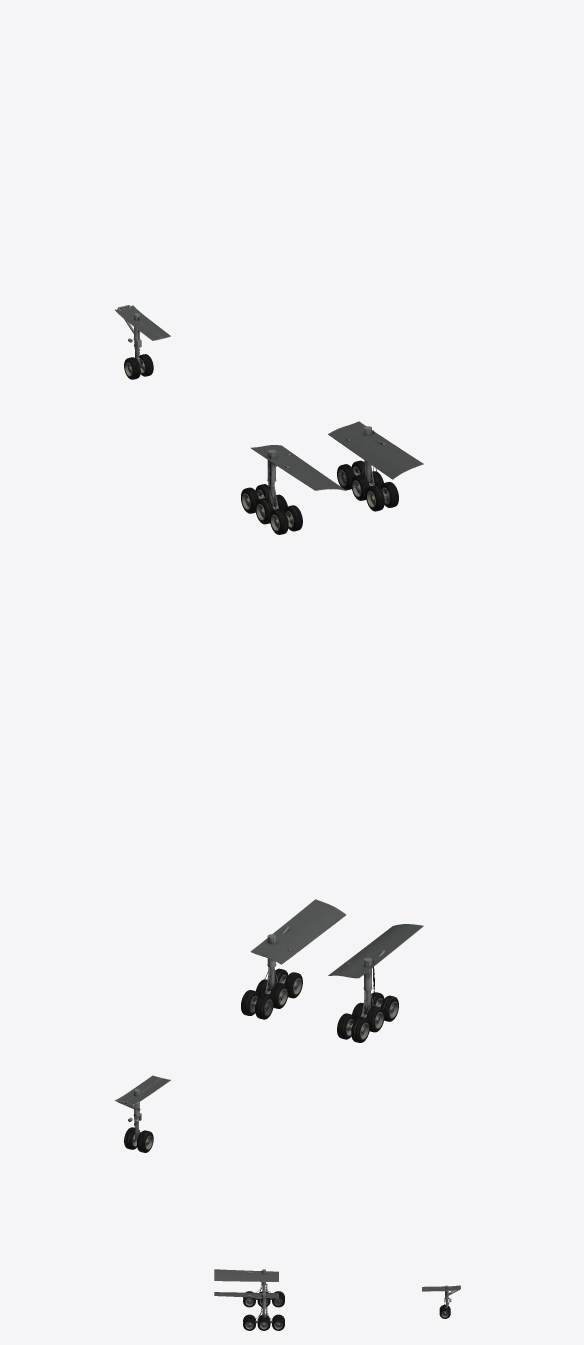
Rendered from e_tu160_gear.glb.
3 views of the same model, one above another, from view 1: azimuth 30°, elevation 25°; view 2: azimuth 150°, elevation 25°; view 3: azimuth 270°, elevation 25° (orthographic). The views are drawn at different scales.
Parts seen in each view (by area): view 1: body|T6_paint; view 2: body|T6_paint; view 3: body|T6_paint.
Boxes of the visible parts, x1,y1,x2,y2 form: body|T6_paint: [115, 305, 423, 534]; body|T6_paint: [114, 899, 423, 1152]; body|T6_paint: [214, 1269, 460, 1330].
Size of the model in its own units: 6.68 by 14.58 by 54.1.
Materials: 1 (1 with a texture image).
